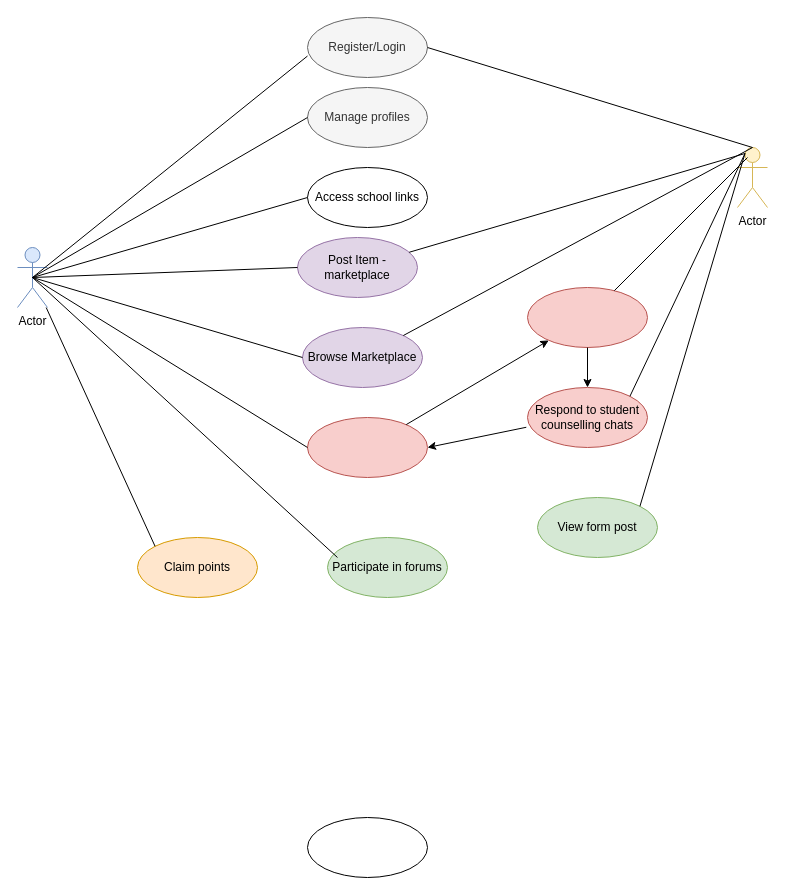
Image size: 785x895. Some labels were removed from this diagram. Here are the shapes that lost their labels. From the top down, the box of each, then its label:
(526, 286, 648, 348): View student request
(306, 416, 428, 478): Chat with counsellor
(306, 816, 428, 878): View notifications
